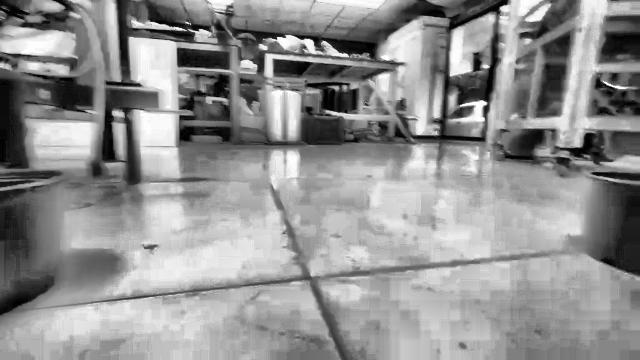pot: (0, 169, 66, 314), (588, 171, 639, 275)
